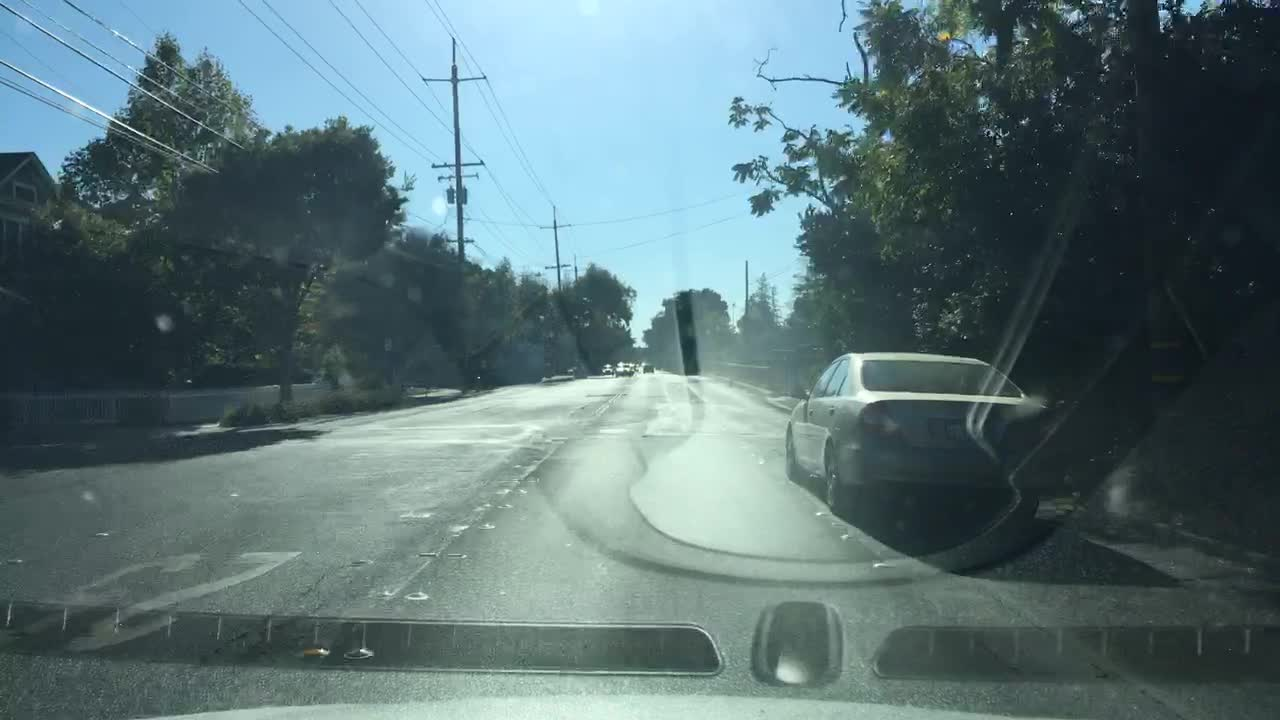car: (783, 351, 1042, 516), (614, 362, 632, 375), (599, 362, 613, 375), (642, 362, 652, 373), (632, 362, 639, 370)
